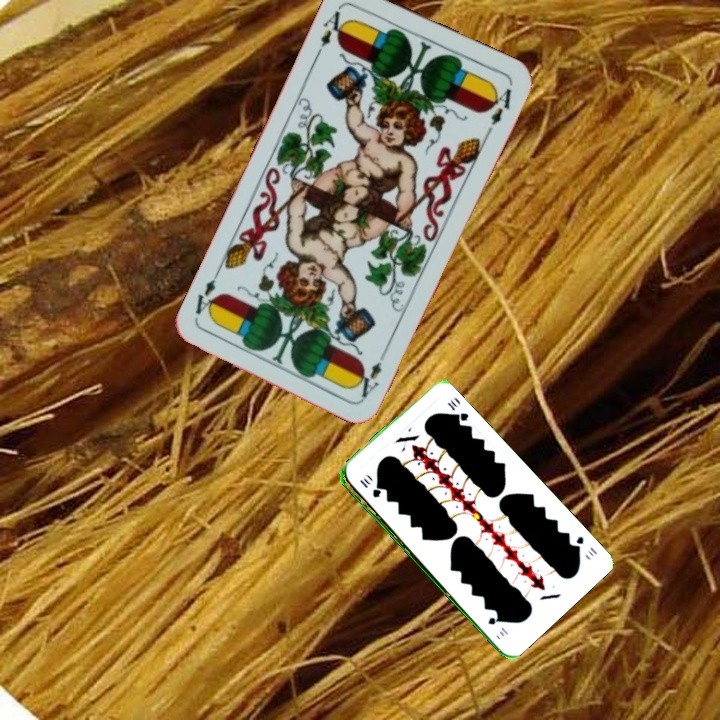EA: (311, 3, 351, 59), (357, 345, 390, 401)
G10: (570, 532, 600, 559), (356, 476, 382, 500)
